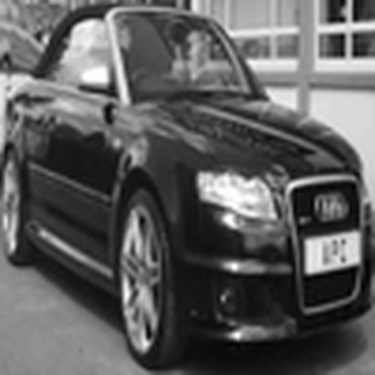car: (13, 4, 359, 358)
